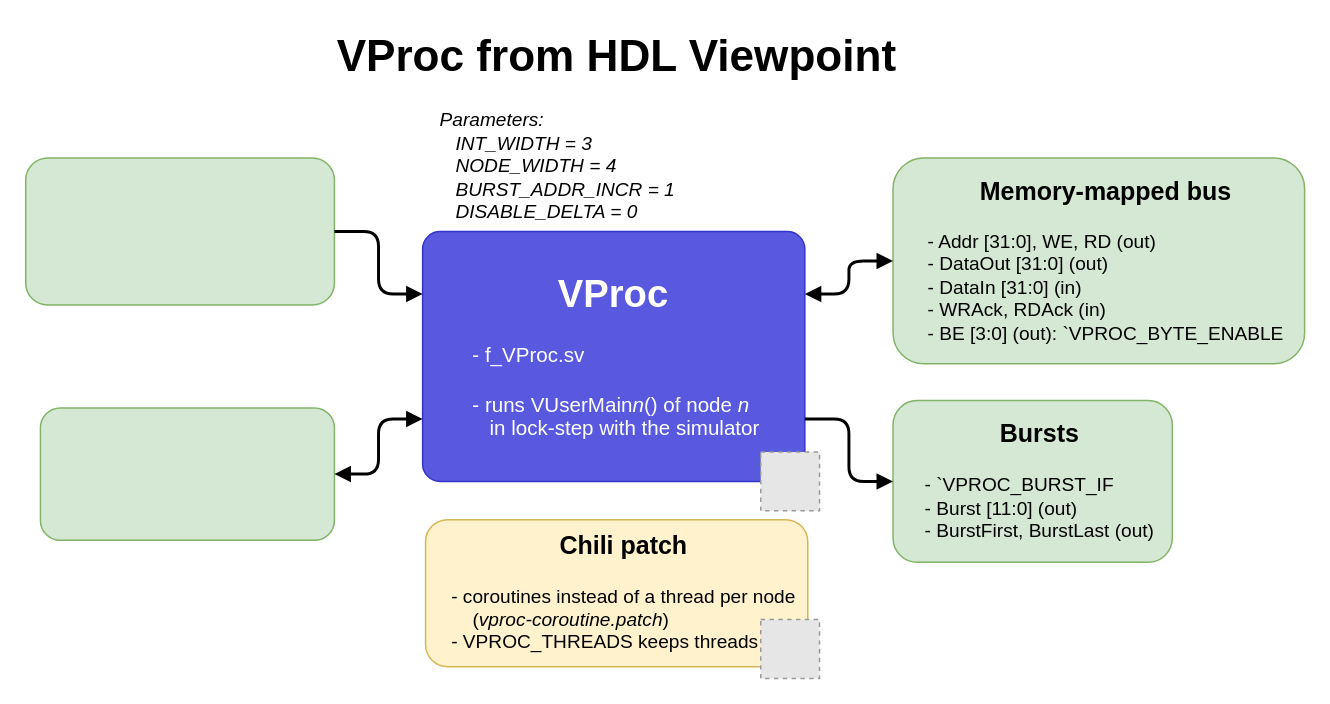
Image size: 1330x704. Some labels were removed from this diagram. Grey dashed boxes stand in for pictures. Each missing label, with the box of its shape:
Control (in) - Clk - Node [NODE_WIDTH-1:0]: static - Interrupt [INT_WIDTH-1:0]: (24, 157, 334, 305)
Delta-cycle handshake - Update (out) - UpdateResponse (in): (39, 406, 334, 540)
